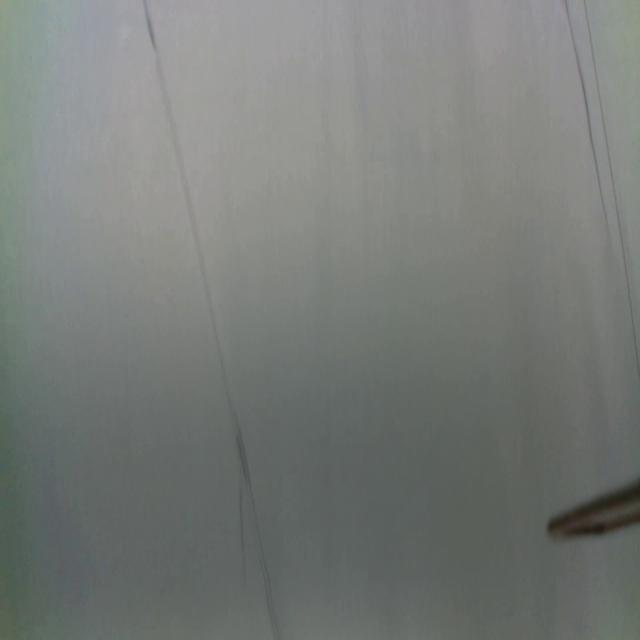crease: (146, 0, 282, 634), (586, 0, 640, 375), (563, 0, 606, 222)
